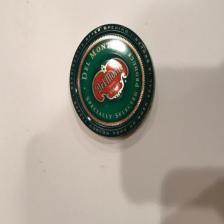metal: (59, 13, 159, 141)
